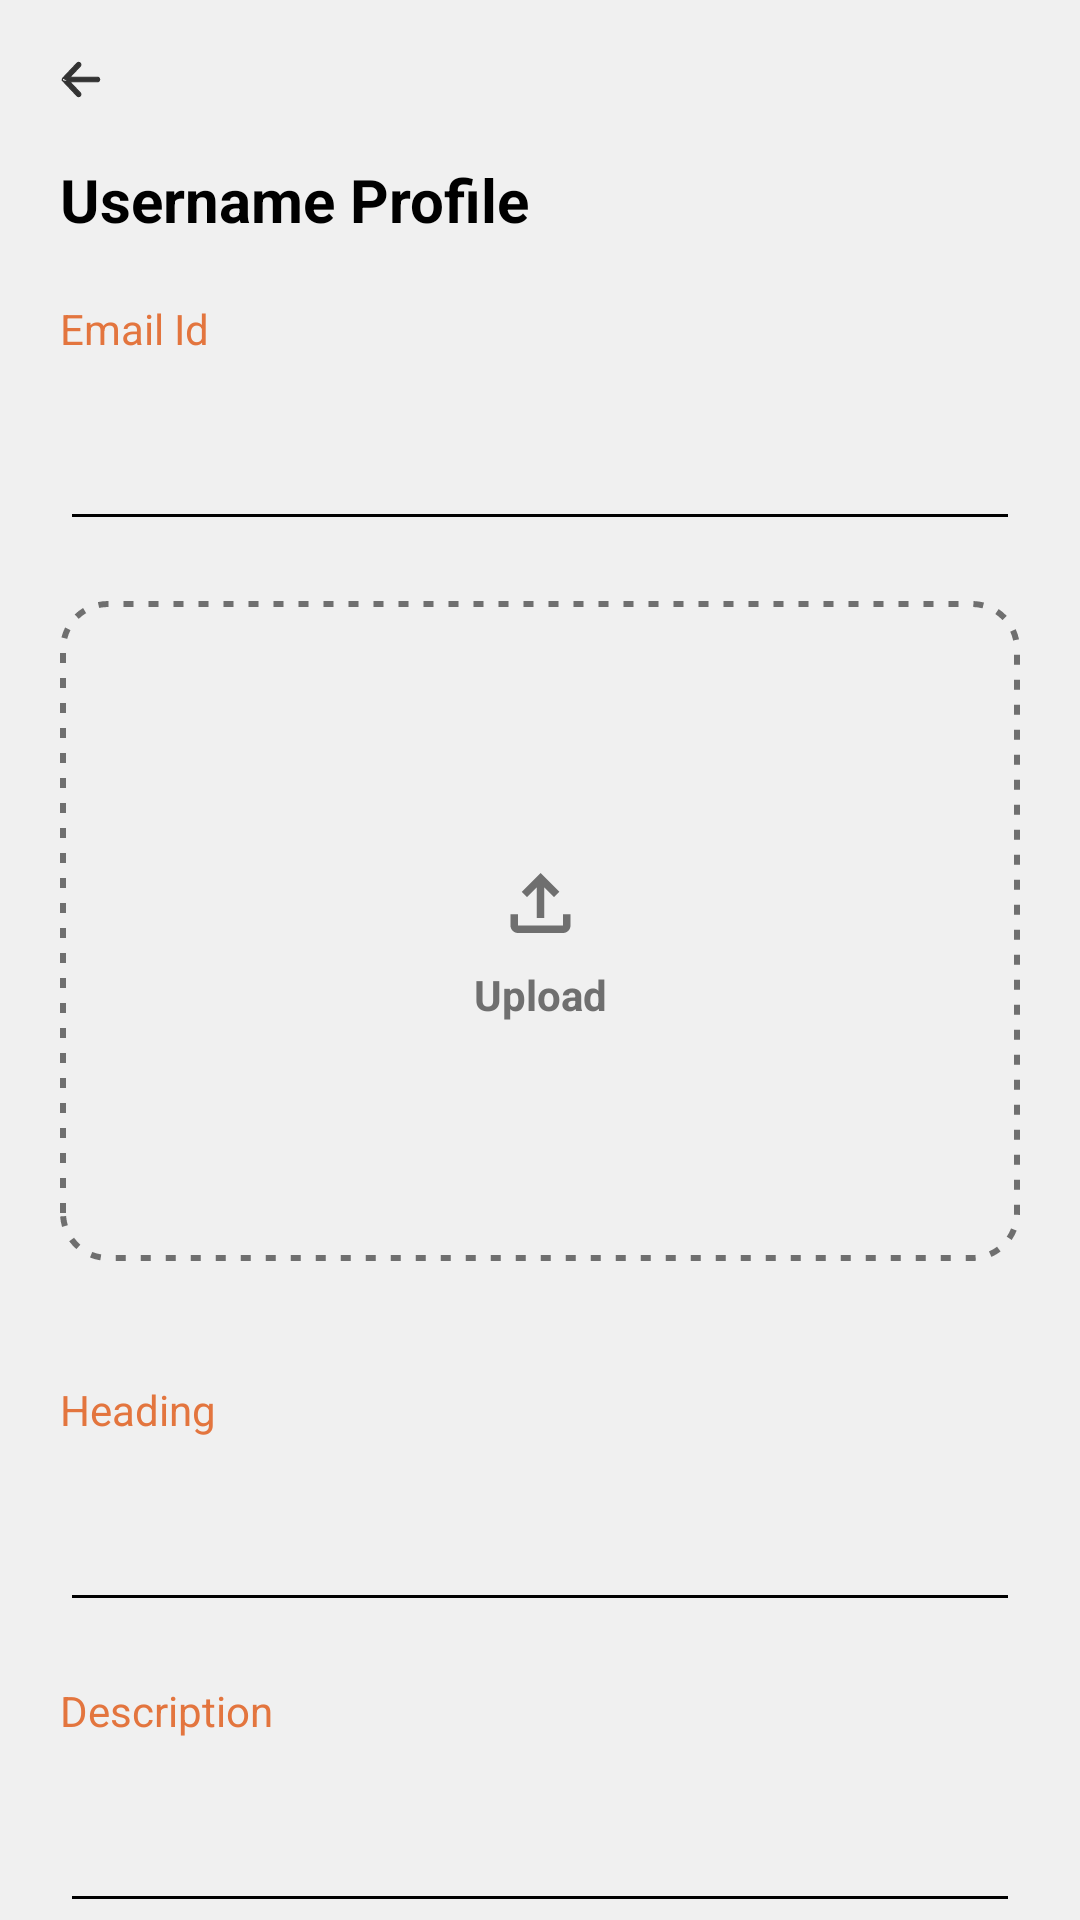

Screen size 1080*1920. Icon name, then its center in pixels as point (x, y):
back: point (81, 79)
